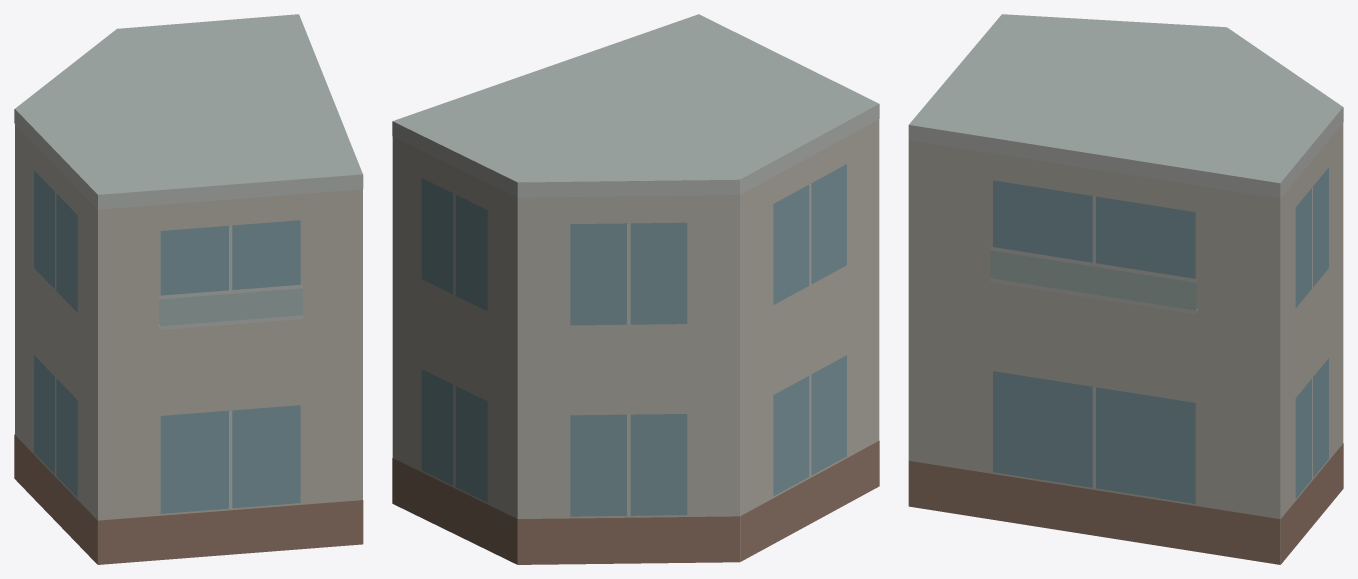
Rendered from survey-upis-32811193.glb.
3 views of the same model, side by side, from view 1: azimuth 30°, elevation 25°; view 2: azimuth 150°, elevation 25°; view 3: azimuth 270°, elevation 25° (orthographic). The views are drawn at different scales.
Parts seen in each view (by area): view 1: survey-upis-32811193.tmp; view 2: survey-upis-32811193.tmp; view 3: survey-upis-32811193.tmp.
Part boxes in pixels (x1,y1,x2,y2): survey-upis-32811193.tmp: (14, 14, 363, 564); survey-upis-32811193.tmp: (392, 14, 879, 564); survey-upis-32811193.tmp: (908, 14, 1343, 564).
Bounding box in the file's own units: 5.81 × 6.1 × 6.31.
